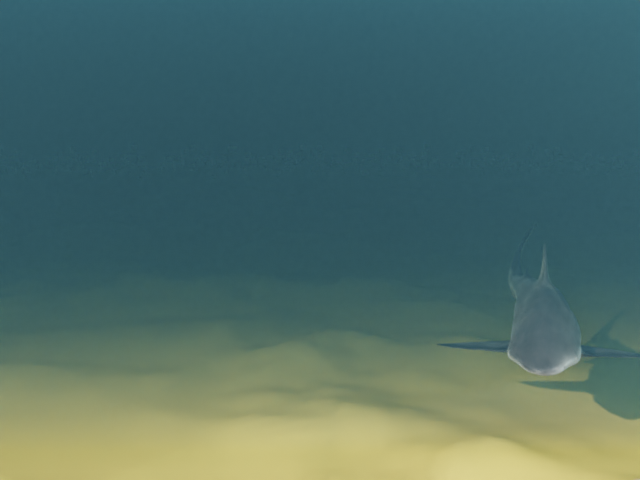Carribean Shark.001: (435, 221, 640, 375)
